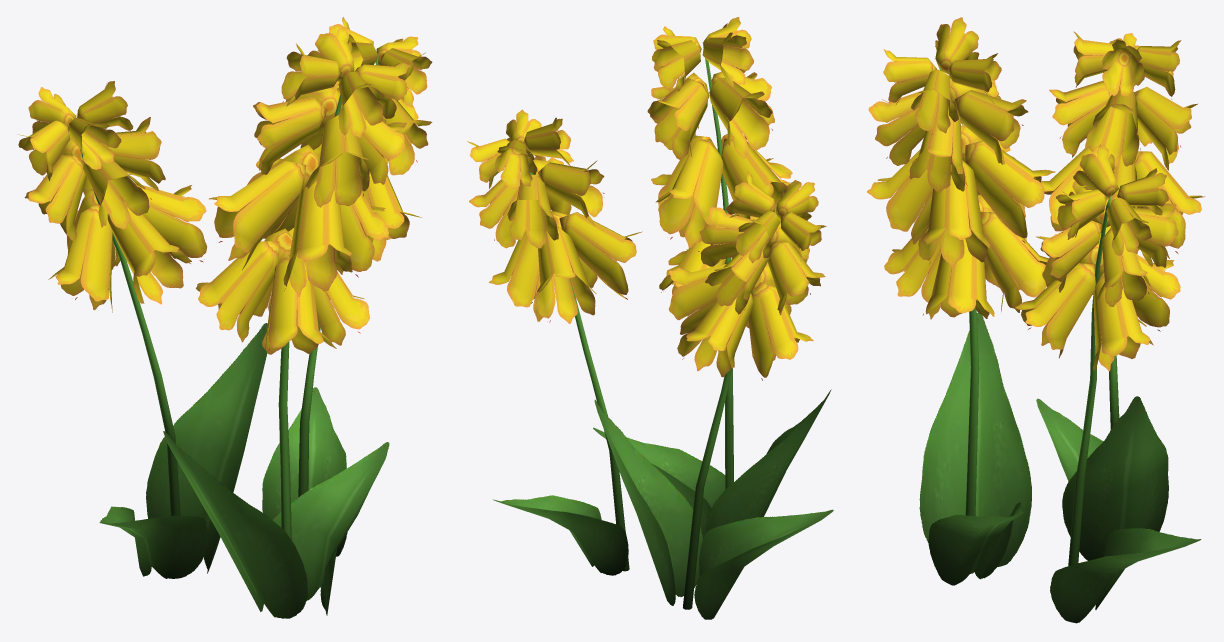
The model's file is flower_bush.glb.
3 views of the same model, side by side, from view 1: azimuth 30°, elevation 25°; view 2: azimuth 150°, elevation 25°; view 3: azimuth 270°, elevation 25° (orthographic). The views are drawn at different scales.
Parts seen in each view (by area): view 1: Flower_4_Group; view 2: Flower_4_Group; view 3: Flower_4_Group.
Part boxes in pixels (x1,y1,x2,y2): Flower_4_Group: [17, 17, 432, 618]; Flower_4_Group: [467, 17, 833, 619]; Flower_4_Group: [867, 17, 1205, 623].
Bounding box in the file's own units: 1.78 × 2.49 × 1.37.
Materials: 2 (2 with a texture image).
